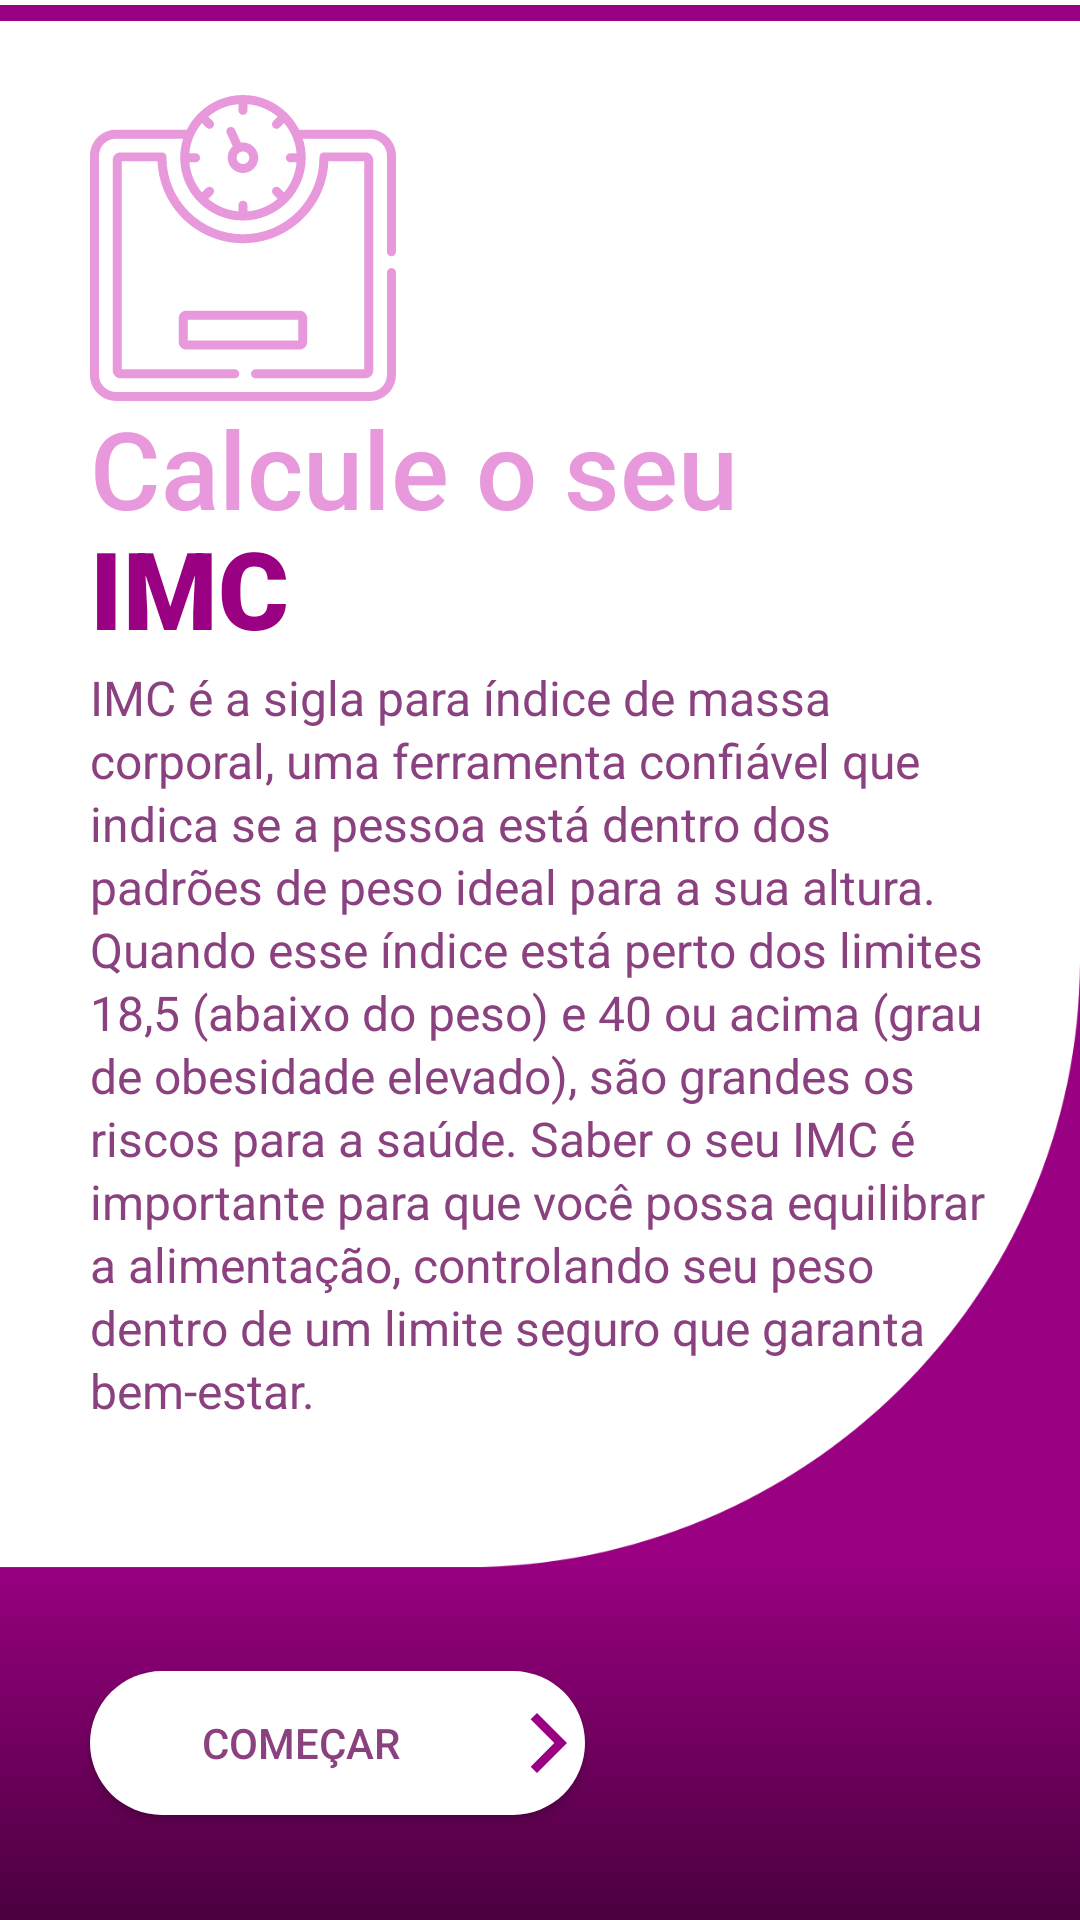

Where icons sit on this 1080x1920 app screen, as bbox(x1, y1, x2, y2):
body scale: bbox(90, 95, 396, 401)
